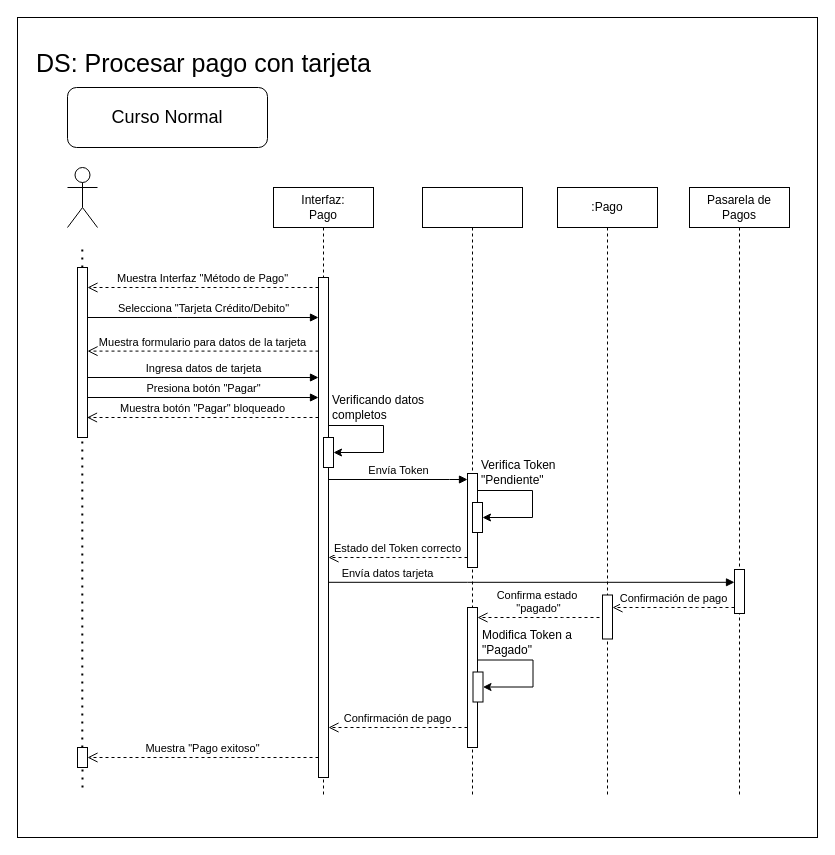
Image size: 835x855. Some labels were removed from this diagram. Each missing label, with the box of its shape:
:Token: (422, 186, 522, 798)
Usuario: (66, 166, 98, 228)
